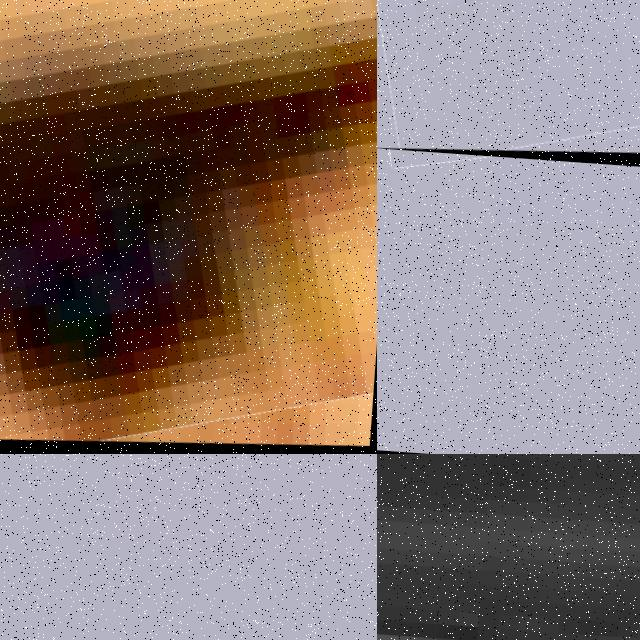drone: (0, 0, 377, 454), (377, 0, 640, 177)
